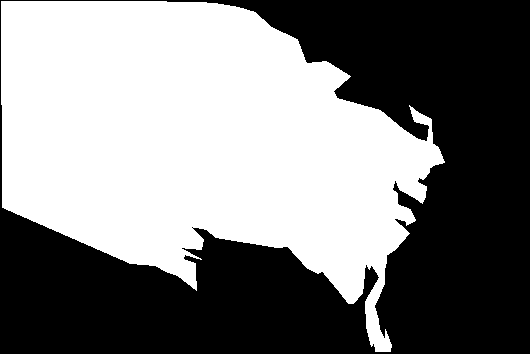Fire: (247, 139, 384, 304)
